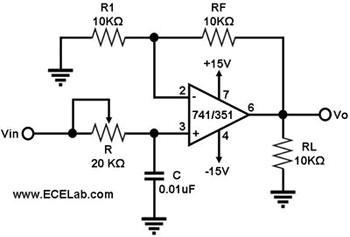amplifier: (184, 81, 254, 150)
cap1: (141, 170, 167, 182)
gnd: (141, 215, 169, 237), (46, 67, 75, 88), (268, 189, 297, 210)
res2: (270, 134, 295, 173), (90, 122, 129, 146), (89, 26, 131, 48), (198, 27, 239, 49)
